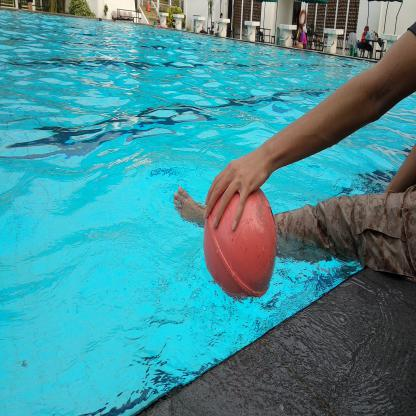red_buoy: (196, 176, 280, 307)
